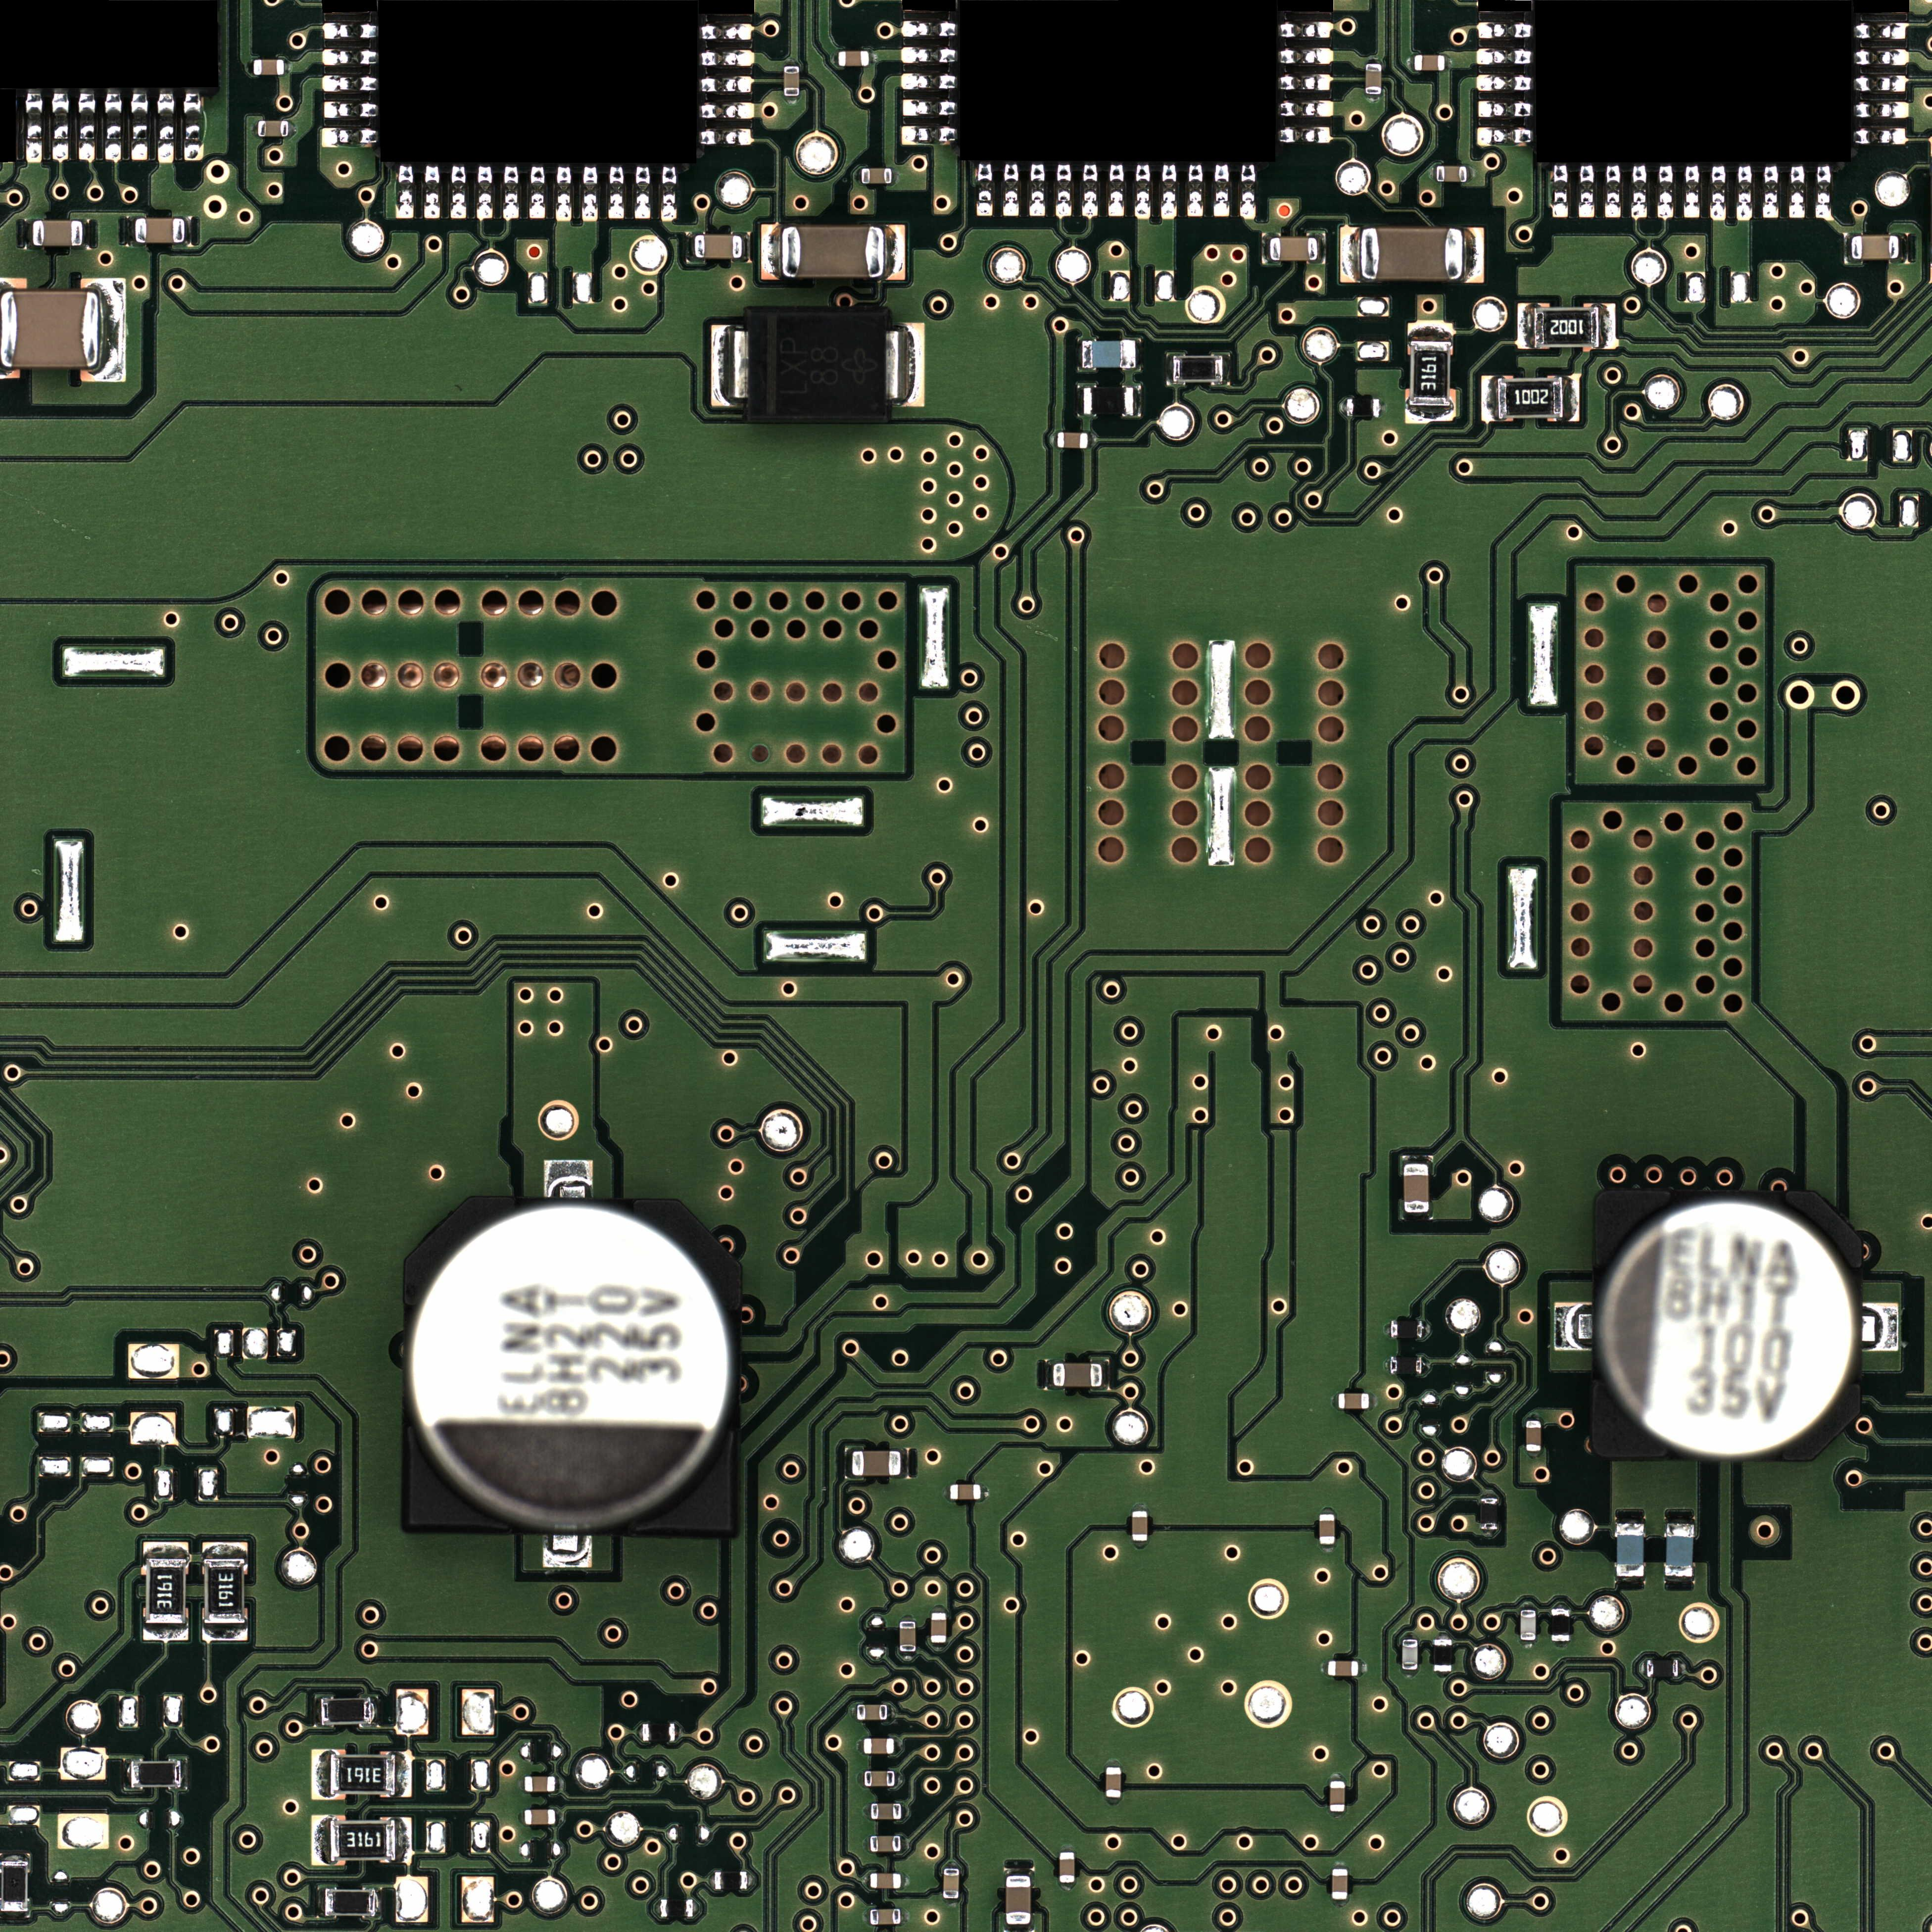Package: (398, 1196, 741, 1534), (1592, 1189, 1865, 1460), (748, 311, 886, 421), (0, 290, 99, 366), (782, 226, 885, 278), (1361, 228, 1463, 280), (1497, 377, 1562, 419), (1408, 341, 1451, 405), (145, 1559, 186, 1624), (203, 1559, 244, 1624), (329, 1821, 395, 1861), (1534, 306, 1599, 347), (331, 1755, 395, 1796), (1665, 1523, 1693, 1576), (1083, 340, 1136, 368), (1617, 1523, 1644, 1576), (1085, 387, 1134, 416), (131, 1760, 180, 1787), (326, 1890, 375, 1916), (1173, 356, 1223, 382), (1007, 1875, 1031, 1925), (320, 1698, 370, 1723), (32, 221, 81, 246), (2, 1861, 27, 1911), (134, 218, 184, 242), (1053, 1362, 1102, 1387), (853, 1451, 901, 1476), (1403, 1164, 1428, 1212), (1852, 235, 1898, 260), (1270, 237, 1316, 260), (695, 235, 741, 258), (1346, 398, 1380, 418), (1552, 1608, 1569, 1642), (715, 1872, 748, 1890), (642, 1723, 676, 1741), (660, 1900, 694, 1918), (1481, 1499, 1499, 1530), (1433, 1640, 1451, 1672), (1391, 1357, 1422, 1375), (1647, 1660, 1679, 1677), (1391, 1320, 1422, 1338), (1332, 1868, 1348, 1900), (1520, 1610, 1536, 1640), (1106, 1767, 1122, 1798), (525, 1776, 556, 1792), (863, 1737, 893, 1753), (1415, 55, 1445, 71), (862, 168, 892, 184), (943, 1868, 959, 1898), (258, 120, 288, 136), (870, 1836, 901, 1852), (950, 1484, 980, 1500), (870, 1803, 901, 1819), (856, 1704, 886, 1720), (865, 1771, 895, 1787), (1525, 1421, 1541, 1451), (1437, 166, 1467, 182), (870, 1909, 901, 1925), (1132, 1511, 1148, 1541), (1366, 64, 1382, 94), (784, 65, 800, 96), (931, 1614, 947, 1642), (253, 60, 285, 74), (901, 1621, 915, 1652), (1338, 1394, 1369, 1408), (1060, 1852, 1074, 1882), (1058, 433, 1088, 448), (870, 1874, 901, 1888), (1403, 1640, 1417, 1670), (525, 1810, 556, 1824), (839, 51, 869, 65), (1330, 1782, 1345, 1812), (1329, 1661, 1359, 1675), (1320, 1514, 1334, 1545)
Solder: (888, 322, 925, 407), (711, 324, 748, 407), (101, 278, 126, 382), (1553, 1302, 1592, 1352), (543, 1159, 593, 1196), (1863, 1302, 1898, 1350), (543, 1534, 593, 1568), (1339, 225, 1361, 283), (184, 92, 202, 161), (131, 92, 149, 161), (104, 92, 122, 161), (78, 92, 96, 161), (51, 92, 69, 161), (1463, 226, 1484, 283), (761, 225, 782, 280), (885, 225, 906, 280), (27, 90, 42, 163), (157, 92, 173, 165), (901, 126, 955, 145), (1477, 126, 1530, 145), (324, 127, 375, 147), (1479, 21, 1532, 39), (1108, 165, 1125, 216), (1408, 322, 1454, 341), (311, 1750, 329, 1799), (311, 1815, 329, 1865), (556, 166, 571, 221), (662, 166, 678, 221), (901, 99, 955, 115), (1134, 165, 1150, 219), (1161, 165, 1177, 219), (1240, 165, 1256, 219), (1279, 21, 1334, 37), (396, 165, 412, 218), (425, 165, 441, 218), (476, 166, 492, 219), (502, 166, 518, 219), (529, 166, 545, 219), (582, 168, 598, 221), (609, 166, 625, 219), (635, 166, 651, 219), (701, 25, 754, 41), (701, 76, 754, 92), (701, 103, 754, 119), (701, 129, 754, 145), (902, 21, 955, 37), (902, 46, 955, 62), (902, 74, 955, 90), (977, 163, 993, 216), (1056, 165, 1072, 218), (1083, 165, 1099, 218), (1187, 165, 1203, 218), (1214, 165, 1230, 218), (1281, 48, 1334, 64), (1281, 74, 1334, 90), (1281, 101, 1334, 117), (1477, 50, 1530, 65), (1477, 74, 1530, 90), (1477, 101, 1530, 117), (1631, 166, 1647, 219), (1736, 166, 1752, 219), (1856, 50, 1909, 65), (1856, 103, 1909, 119), (1856, 129, 1909, 145), (324, 50, 375, 65), (324, 101, 375, 117), (451, 166, 467, 218), (1003, 165, 1019, 216), (1030, 165, 1046, 216), (1281, 127, 1332, 143), (1856, 23, 1907, 39), (1856, 76, 1907, 92), (143, 1541, 189, 1559), (1599, 303, 1617, 349), (1405, 407, 1454, 423), (1711, 166, 1725, 221), (1553, 165, 1568, 218), (1580, 165, 1594, 218), (1606, 165, 1621, 218), (1658, 166, 1672, 219), (202, 1543, 248, 1559), (143, 1624, 189, 1640), (396, 1817, 412, 1863), (202, 1624, 248, 1640), (1481, 375, 1497, 421), (1564, 375, 1580, 421), (1518, 303, 1534, 349), (324, 25, 375, 39), (324, 76, 375, 90), (702, 51, 754, 65), (1684, 166, 1698, 218), (1764, 166, 1778, 218), (1790, 166, 1805, 218), (1817, 166, 1831, 218), (396, 1753, 412, 1798), (1898, 234, 1909, 264), (1223, 354, 1231, 386), (1663, 1576, 1695, 1585), (1316, 232, 1325, 264), (0, 1852, 30, 1861), (1844, 234, 1852, 264), (741, 232, 750, 262), (686, 232, 695, 262), (1261, 234, 1270, 264), (122, 1759, 131, 1789), (372, 1697, 380, 1727), (901, 1449, 909, 1479), (1615, 1514, 1645, 1523), (1665, 1514, 1695, 1523), (1044, 1361, 1053, 1391), (1005, 1867, 1033, 1875), (0, 1911, 28, 1920), (317, 1888, 326, 1916), (1401, 1155, 1433, 1162), (1401, 1214, 1433, 1221), (180, 1759, 188, 1789), (1134, 386, 1141, 416), (127, 216, 134, 246), (1076, 340, 1083, 370), (1102, 1359, 1109, 1389), (25, 219, 32, 249), (1077, 386, 1085, 416), (1615, 1576, 1645, 1583), (83, 219, 90, 249), (1166, 354, 1173, 384), (375, 1888, 382, 1918), (1136, 340, 1143, 370), (184, 216, 191, 246), (1003, 1925, 1033, 1932), (313, 1697, 320, 1725), (846, 1447, 851, 1477), (288, 120, 297, 138), (1132, 1541, 1148, 1550), (980, 1484, 989, 1500), (1106, 1759, 1122, 1767), (1106, 1798, 1122, 1806), (931, 1605, 947, 1614), (901, 1909, 909, 1925), (1329, 1773, 1345, 1782), (862, 1836, 870, 1852), (893, 1737, 902, 1753), (856, 1771, 865, 1787), (1329, 1812, 1346, 1819), (901, 1835, 908, 1852), (694, 1900, 701, 1918), (1369, 1392, 1376, 1410), (748, 1872, 755, 1890), (1401, 1670, 1419, 1677), (1552, 1601, 1569, 1608), (1525, 1451, 1543, 1458), (899, 1652, 916, 1660), (1481, 1530, 1499, 1537), (708, 1872, 715, 1890), (1318, 1545, 1336, 1552), (1330, 1900, 1348, 1907), (1422, 1322, 1430, 1339), (1638, 1660, 1645, 1677), (1058, 1845, 1076, 1852), (901, 1803, 908, 1821), (1384, 1357, 1391, 1375), (517, 1810, 525, 1824), (1330, 1392, 1338, 1410), (1339, 398, 1346, 416), (1467, 166, 1474, 182), (892, 168, 899, 184), (1520, 1640, 1536, 1647), (1520, 1603, 1536, 1610), (1088, 432, 1095, 448), (784, 58, 800, 65), (863, 1803, 870, 1819), (832, 51, 839, 67), (1051, 432, 1058, 448), (855, 168, 862, 184), (1132, 1504, 1148, 1511), (251, 120, 258, 136), (1445, 55, 1453, 71), (1320, 1507, 1336, 1514), (943, 1484, 950, 1500), (1332, 1861, 1348, 1868), (784, 97, 800, 104), (863, 1909, 870, 1925), (1430, 166, 1437, 182), (1435, 1633, 1451, 1640), (518, 1776, 525, 1792), (1384, 1322, 1391, 1338), (943, 1861, 959, 1868), (888, 1704, 895, 1720), (1366, 94, 1382, 101), (1060, 1882, 1076, 1890), (1481, 1491, 1497, 1499), (556, 1776, 563, 1792), (943, 1898, 959, 1905), (556, 1810, 563, 1826), (1366, 57, 1382, 64), (1380, 398, 1385, 418), (901, 1874, 908, 1888), (1527, 1414, 1541, 1421), (1359, 1661, 1366, 1675), (1322, 1661, 1329, 1675), (869, 51, 876, 65), (246, 60, 253, 74), (863, 1874, 870, 1888), (849, 1706, 856, 1720), (856, 1739, 863, 1753), (1422, 1357, 1428, 1375), (899, 1615, 916, 1621), (1679, 1660, 1684, 1677), (655, 1900, 660, 1918), (637, 1723, 642, 1741), (676, 1723, 681, 1741), (1552, 1642, 1569, 1647), (285, 58, 290, 76), (1408, 55, 1414, 71), (895, 1771, 901, 1787), (1401, 1633, 1417, 1638), (931, 1644, 947, 1649), (1435, 1672, 1451, 1677)
